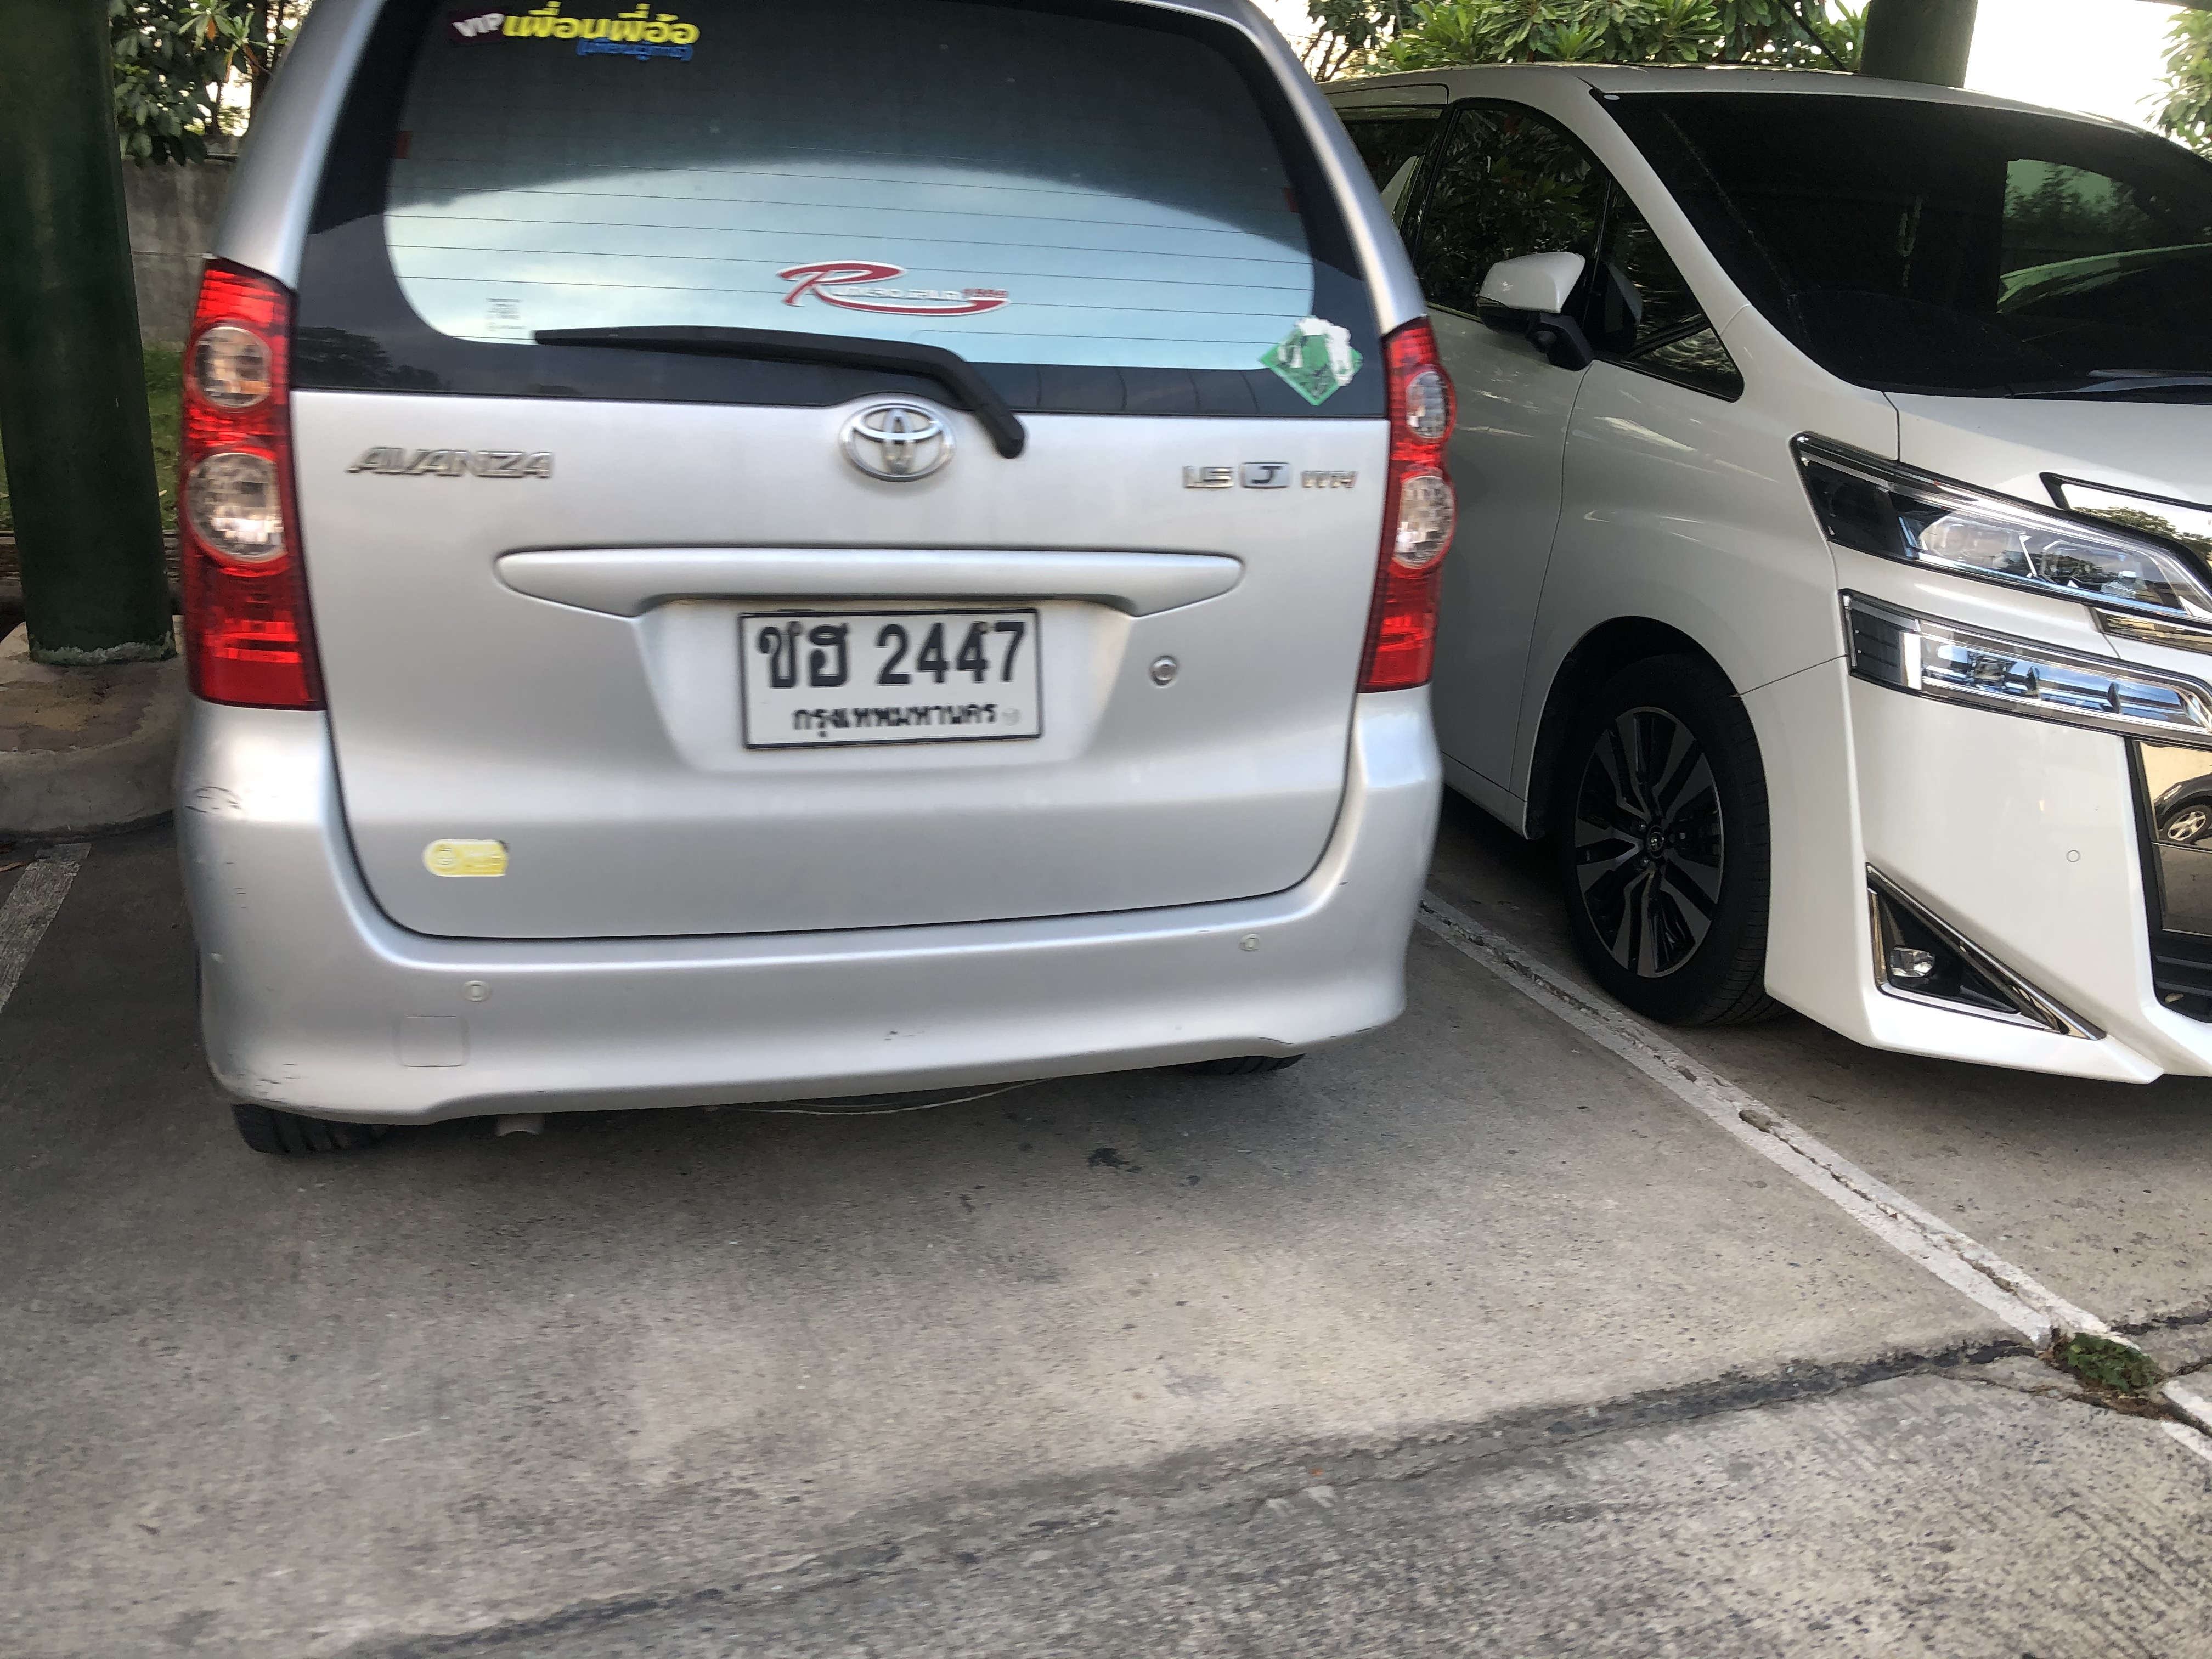in: (742, 608, 1040, 737)
